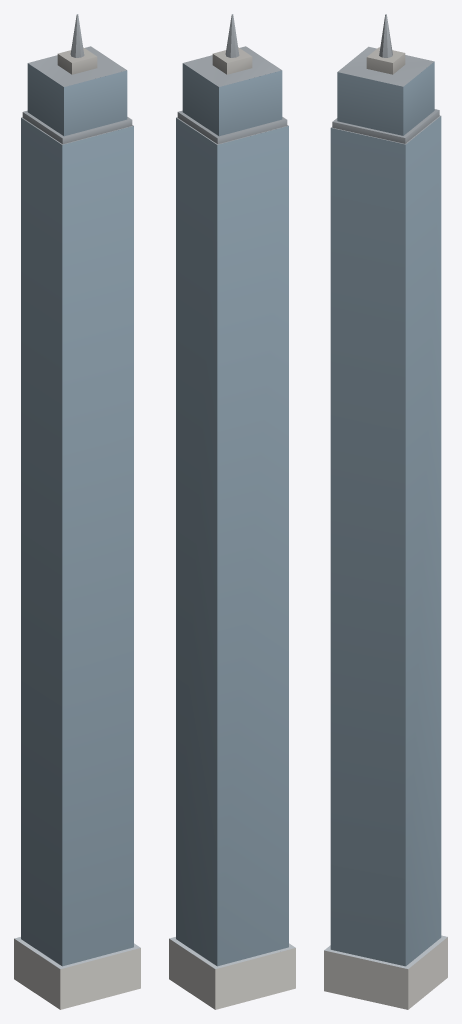
The model's file is tower_07.glb.
The picture shows the model from 3 angles, left to right: view 1: azimuth 30°, elevation 25°; view 2: azimuth 210°, elevation 25°; view 3: azimuth 330°, elevation 25°; orthographic projection.
Visible parts, largest first — view 1: tower_07; view 2: tower_07; view 3: tower_07.
Part boxes in pixels (x1,y1,x2,y2): tower_07: (14, 14, 140, 1009); tower_07: (169, 14, 295, 1009); tower_07: (324, 14, 447, 1009).
Bounding box in the file's own units: 30.76 × 333 × 27.9.
